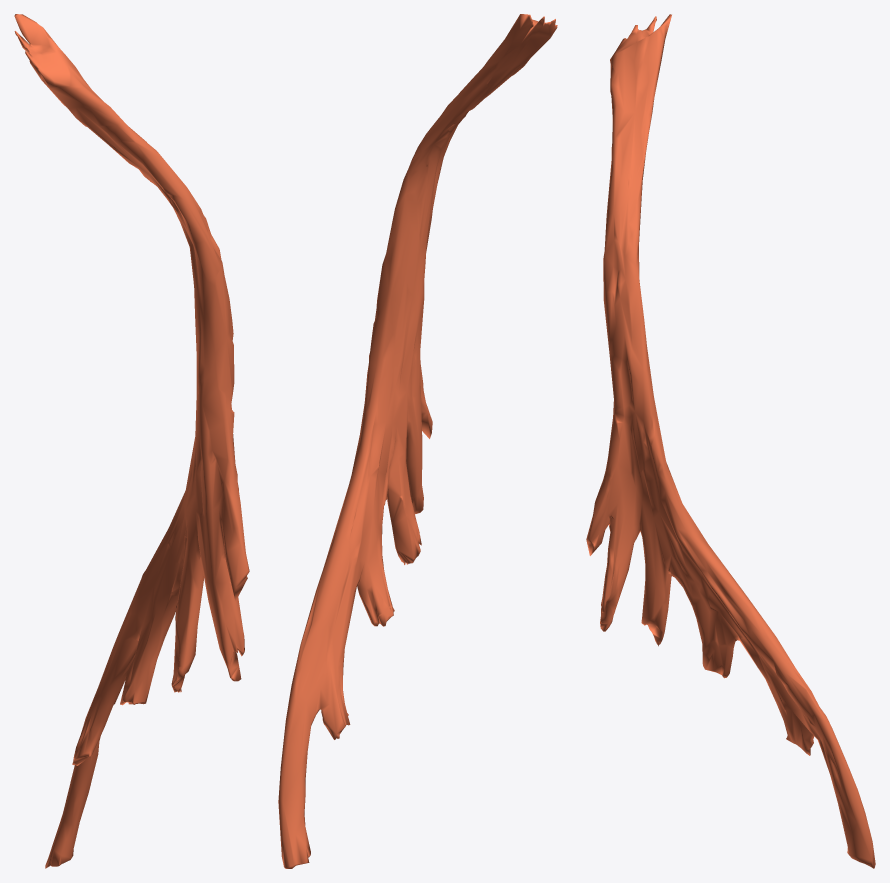
File: Longissimus_capitis.r_Generated_Mesh_From_X3D.375.glb
3 views of the same model, side by side, from view 1: azimuth 30°, elevation 25°; view 2: azimuth 150°, elevation 25°; view 3: azimuth 270°, elevation 25° (orthographic). The views are drawn at different scales.
Visible parts, largest first — view 1: Longissimus_capitis.r_Generated_Mesh_From_X3D.375; view 2: Longissimus_capitis.r_Generated_Mesh_From_X3D.375; view 3: Longissimus_capitis.r_Generated_Mesh_From_X3D.375.
Part boxes in pixels (x1=…): Longissimus_capitis.r_Generated_Mesh_From_X3D.375: x1=14, y1=14, x2=249, y2=868; Longissimus_capitis.r_Generated_Mesh_From_X3D.375: x1=278, y1=14, x2=557, y2=868; Longissimus_capitis.r_Generated_Mesh_From_X3D.375: x1=586, y1=14, x2=875, y2=868.
Bounding box in the file's own units: 0.0353 × 0.1573 × 0.0523.
